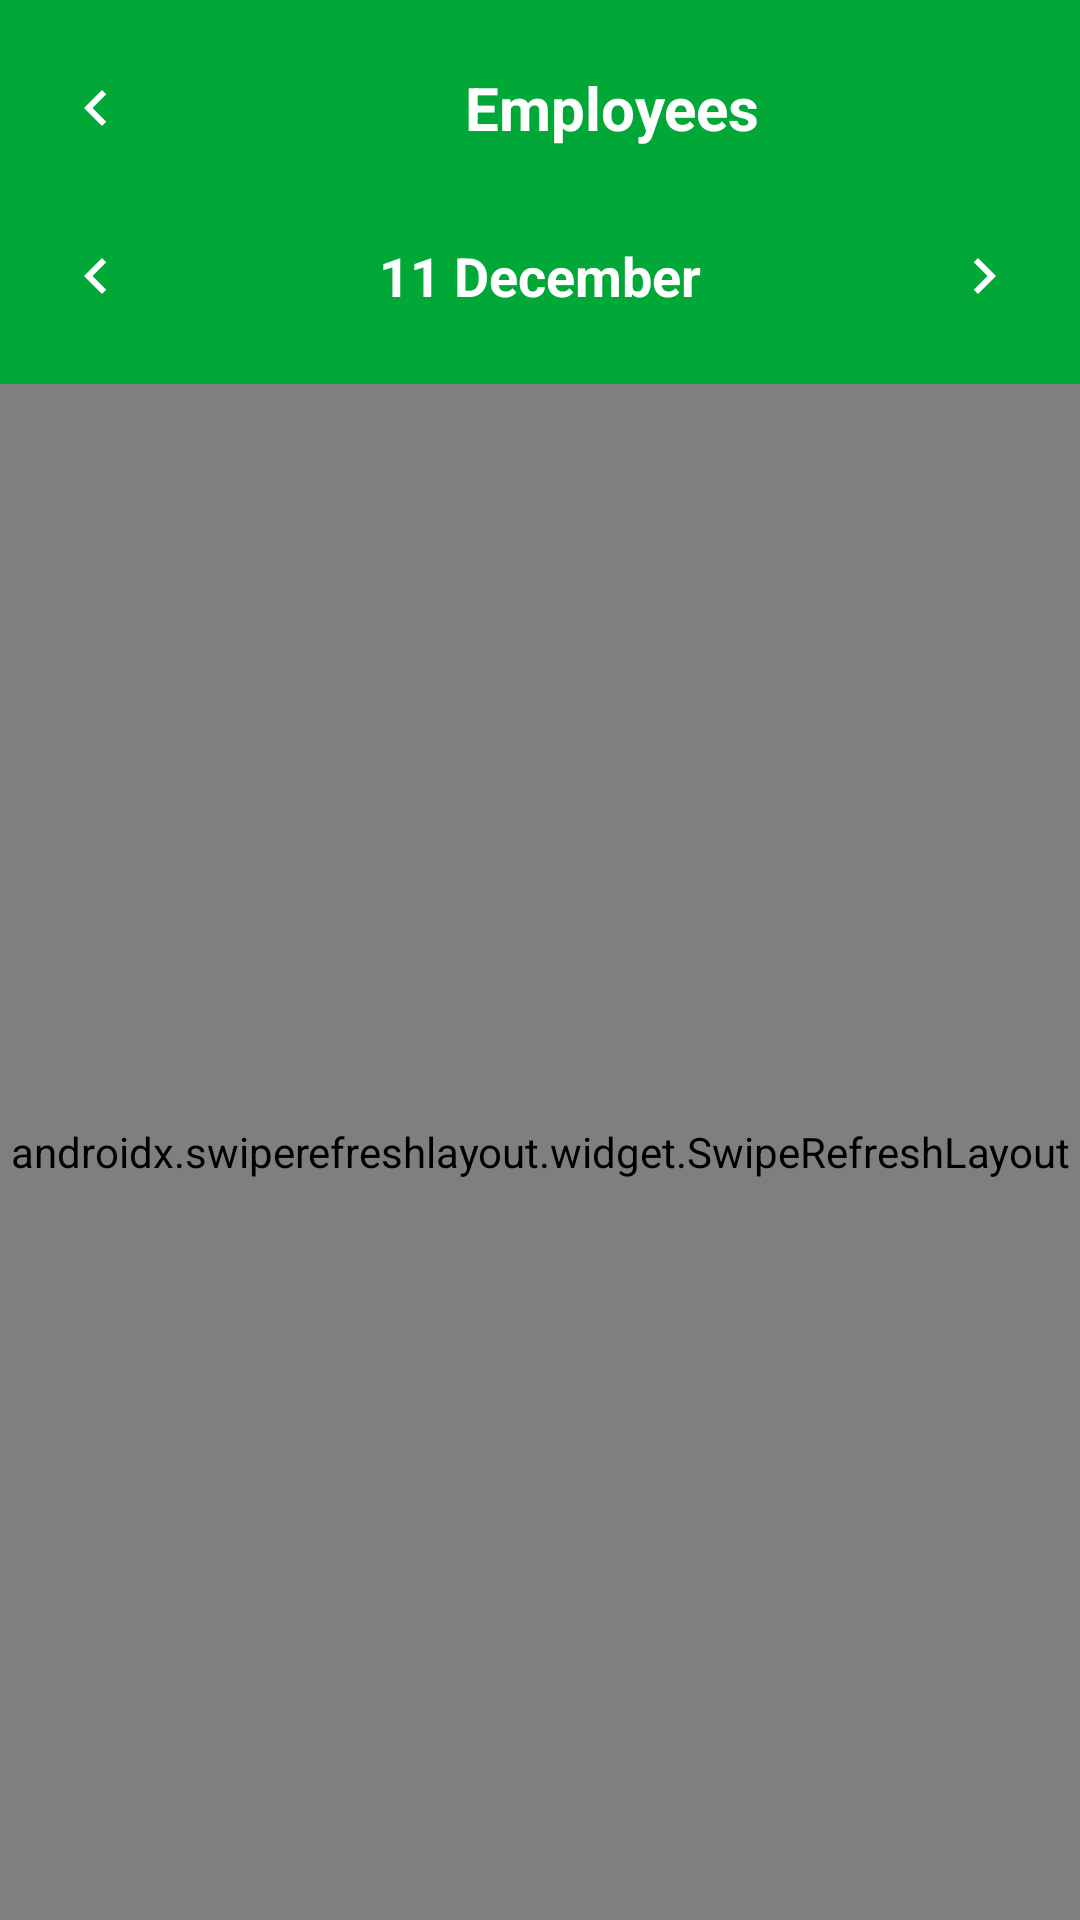

Named icons in this screenshot (1080px x 1920px) and their centers, (x=x, y=y):
Back: (x=95, y=108)
Next: (x=985, y=276)
Previous: (x=95, y=276)
